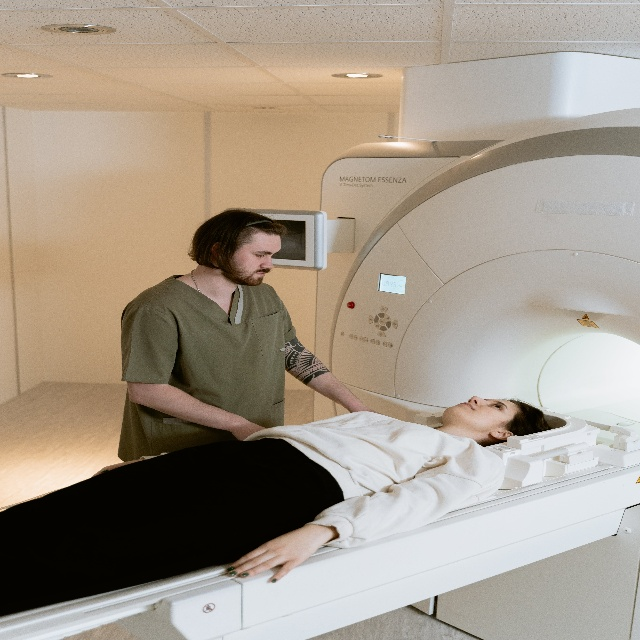Sin_guantes: (228, 521, 330, 595)
